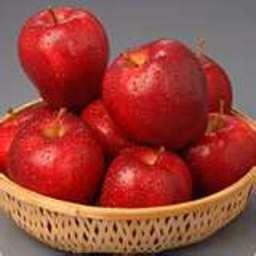apple: (103, 40, 208, 145), (15, 8, 111, 111), (8, 115, 101, 199), (176, 114, 256, 190), (95, 147, 191, 206)
